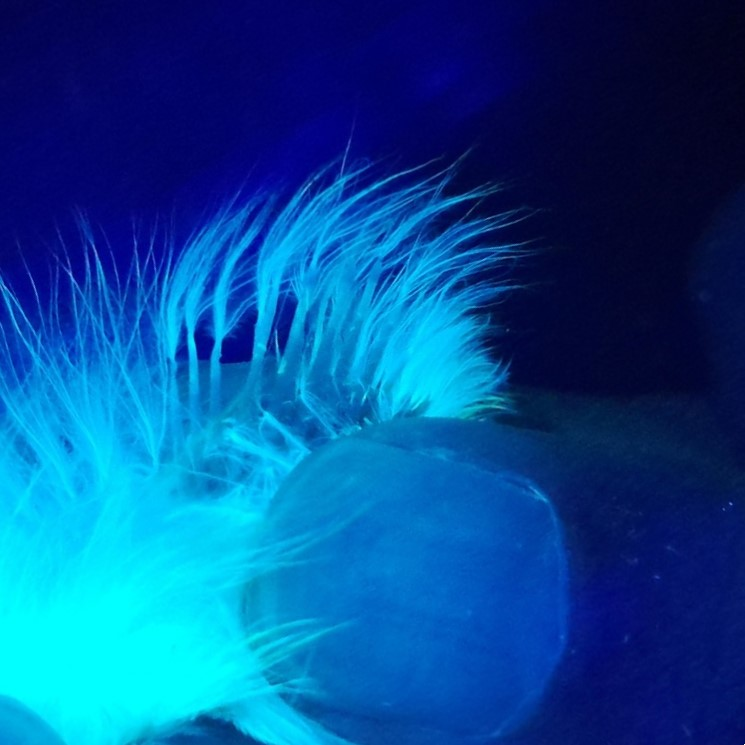male: (154, 252, 431, 489)
